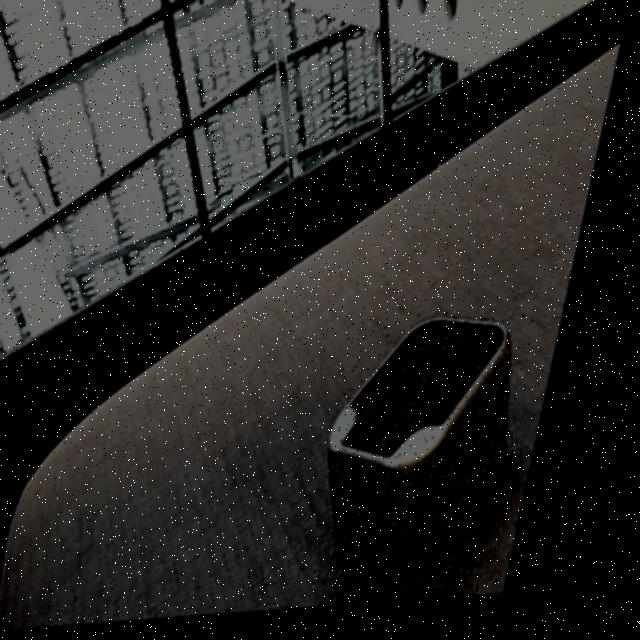adapter: (321, 315, 554, 605)
